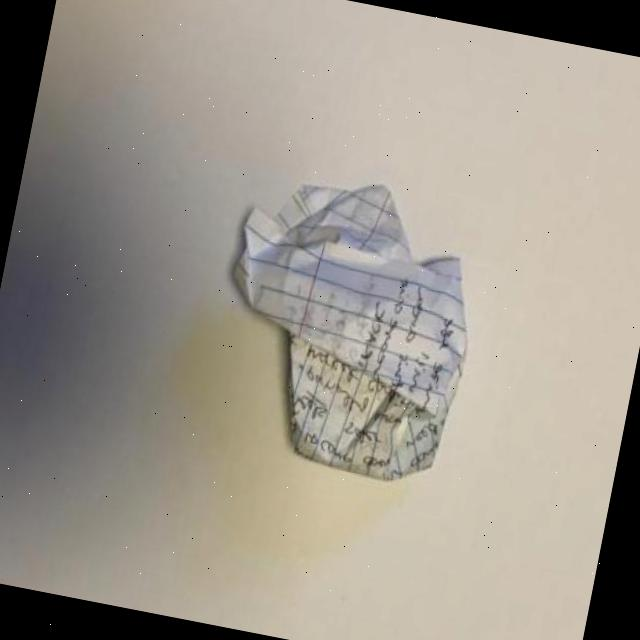trash: (201, 160, 498, 490)
